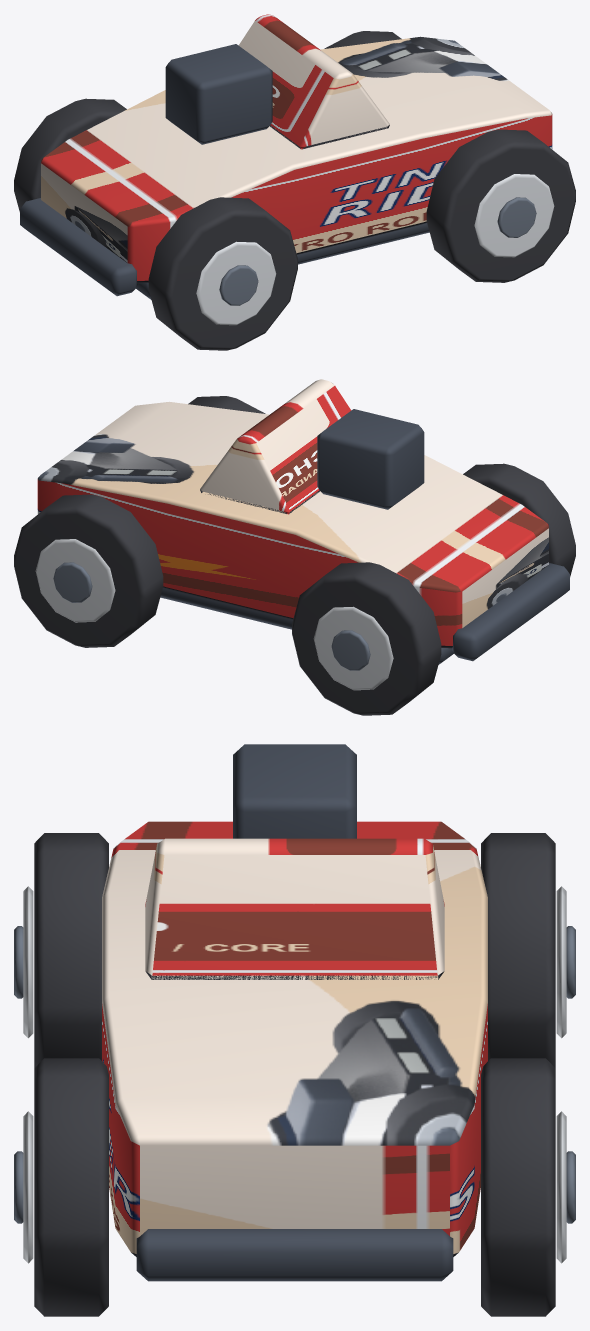
The picture shows the model from 3 angles, top to bottom: view 1: azimuth 30°, elevation 25°; view 2: azimuth 150°, elevation 25°; view 3: azimuth 270°, elevation 25°; orthographic projection. The views are drawn at different scales.
Visible parts, largest first — view 1: RR-04_connected_shell, Tire, Tire.002, RR-04_cabin, engine scoop, front bumper, Tire.001, Rim, Rim.002, underbody, Hub, Hub.002 (+1 smaller); view 2: RR-04_connected_shell, Tire.001, Tire.003, RR-04_cabin, engine scoop, front bumper, Tire, Rim.001, Rim.003, underbody, Hub.001, Hub.003 (+1 smaller); view 3: RR-04_connected_shell, RR-04_cabin, Tire.002, Tire.003, rear bumper, Tire, Tire.001, engine scoop, Rim, Rim.001, Rim.002, Rim.003 (+4 smaller).
Boxes of the visible parts, x1,y1,x2,y2 form: RR-04_connected_shell: [41, 36, 552, 283]; Tire: [148, 197, 297, 350]; Tire.002: [426, 129, 575, 282]; RR-04_cabin: [238, 14, 389, 149]; engine scoop: [165, 44, 272, 144]; front bumper: [20, 198, 137, 296]; Tire.001: [14, 98, 126, 211]; Rim: [196, 241, 276, 325]; Rim.002: [474, 174, 554, 257]; underbody: [136, 223, 429, 299]; Hub: [219, 265, 258, 305]; Hub.002: [497, 197, 536, 237]; RR-04_connected_shell: [37, 401, 548, 648]; Tire.001: [292, 562, 441, 715]; Tire.003: [14, 494, 163, 647]; RR-04_cabin: [200, 379, 351, 514]; engine scoop: [317, 409, 424, 509]; front bumper: [452, 563, 569, 661]; Tire: [463, 463, 575, 576]; Rim.001: [313, 606, 393, 690]; Rim.003: [35, 539, 115, 622]; underbody: [160, 588, 453, 664]; Hub.001: [331, 630, 370, 670]; Hub.003: [53, 562, 92, 602]; RR-04_connected_shell: [102, 821, 487, 1256]; RR-04_cabin: [145, 838, 444, 979]; Tire.002: [34, 1058, 108, 1316]; Tire.003: [481, 1058, 555, 1316]; rear bumper: [136, 1229, 453, 1281]; Tire: [34, 833, 108, 1067]; Tire.001: [481, 833, 555, 1067]; engine scoop: [233, 744, 356, 838]; Rim: [23, 886, 33, 1038]; Rim.001: [556, 886, 566, 1038]; Rim.002: [23, 1111, 33, 1263]; Rim.003: [556, 1111, 566, 1263].
Bounding box in the file's own units: 303 × 137 × 195.
